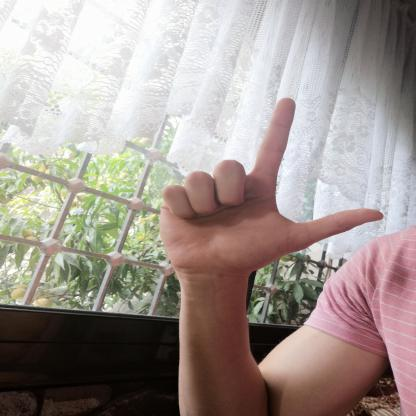LAAM: (144, 86, 395, 286)
